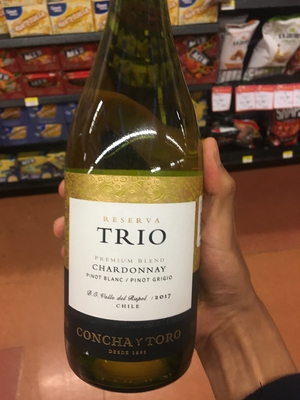trio chardonnay: (50, 10, 213, 388)
